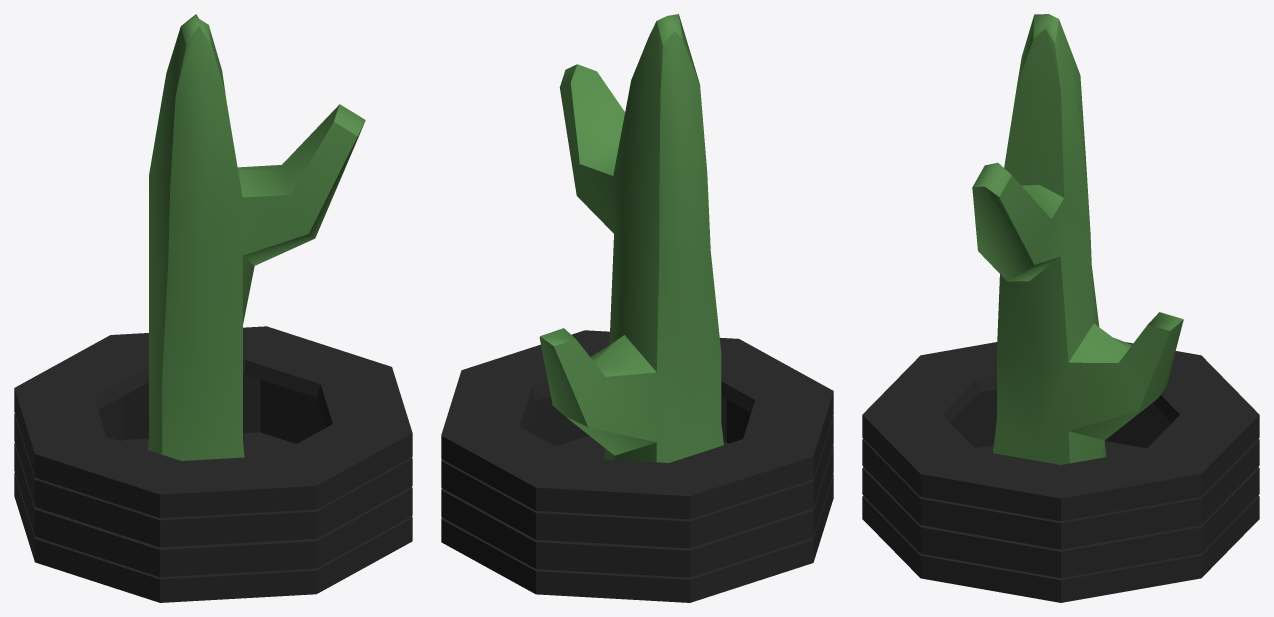
File: 仙人掌.fbx
The picture shows the model from 3 angles, left to right: view 1: azimuth 30°, elevation 25°; view 2: azimuth 150°, elevation 25°; view 3: azimuth 270°, elevation 25°; orthographic projection. The views are drawn at different scales.
Visible parts, largest first — view 1: pCube26; view 2: pCube26; view 3: pCube26.
Part boxes in pixels (bbox=[...]): pCube26: bbox=[14, 14, 412, 602]; pCube26: bbox=[441, 14, 833, 602]; pCube26: bbox=[862, 14, 1259, 602].
Bounding box in the file's own units: 277 × 394 × 277.
